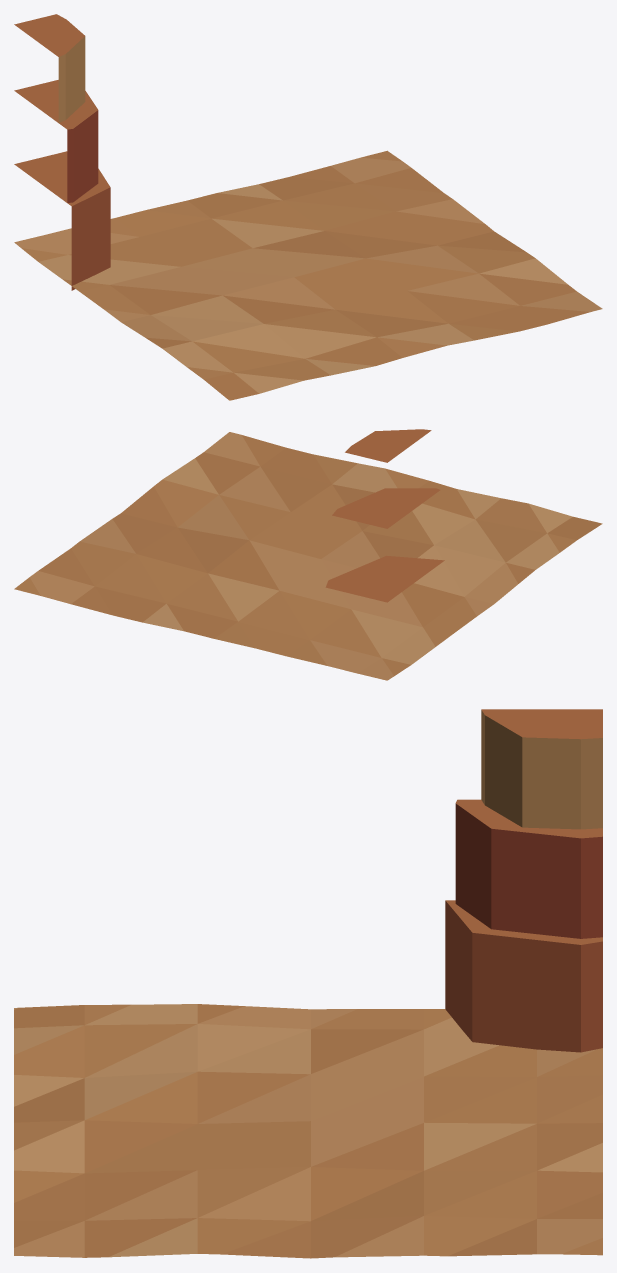
The picture shows the model from 3 angles, top to bottom: view 1: azimuth 30°, elevation 25°; view 2: azimuth 150°, elevation 25°; view 3: azimuth 270°, elevation 25°; orthographic projection. The views are drawn at different scales.
Parts seen in each view (by area): view 1: baked; view 2: baked; view 3: baked.
Boxes of the visible parts, x1=… form: baked: x1=14, y1=14, x2=602, y2=400; baked: x1=14, y1=429, x2=602, y2=680; baked: x1=14, y1=709, x2=602, y2=1258.
Size of the model in its own units: 62.5 by 35.84 by 62.5.
